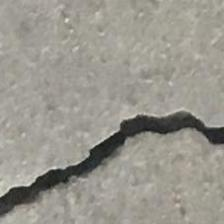Crack: (0, 97, 224, 224)
